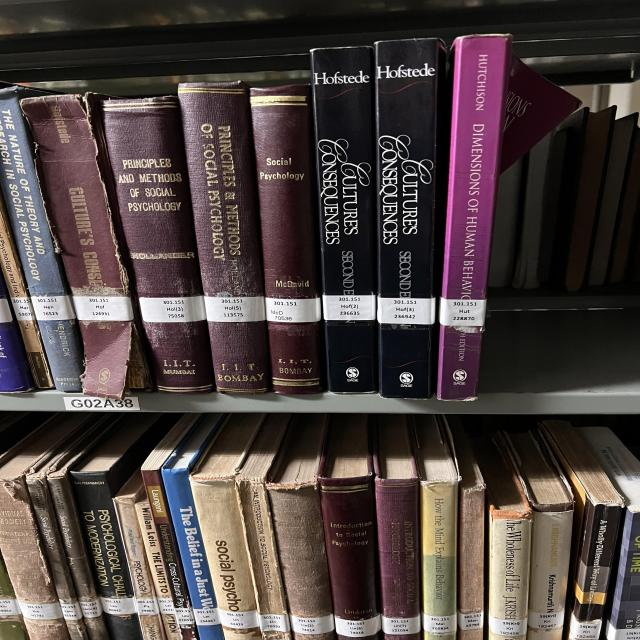Book: (437, 34, 580, 400), (22, 94, 152, 400), (102, 96, 213, 394), (178, 82, 270, 392), (0, 86, 83, 391), (375, 39, 445, 399), (70, 414, 172, 640), (250, 85, 323, 394), (312, 46, 377, 392), (0, 414, 98, 640), (540, 420, 623, 640), (190, 414, 265, 640), (267, 414, 335, 640), (318, 414, 382, 640), (162, 414, 225, 640), (577, 428, 640, 640), (142, 414, 200, 640), (47, 438, 110, 640), (237, 414, 292, 640), (473, 438, 532, 640), (27, 455, 88, 640), (0, 194, 55, 389), (375, 415, 420, 640), (413, 415, 458, 640), (113, 470, 167, 640), (448, 416, 485, 640), (135, 499, 180, 640), (527, 510, 573, 640), (0, 272, 35, 392), (0, 556, 27, 640)
Label: (138, 296, 207, 322), (377, 298, 435, 325), (205, 296, 265, 322), (73, 296, 133, 321), (323, 295, 377, 321), (265, 298, 322, 322), (440, 298, 487, 326), (32, 295, 75, 321), (335, 615, 380, 638), (568, 612, 602, 640), (290, 614, 333, 635), (18, 601, 63, 620), (488, 615, 527, 636), (218, 609, 258, 629), (382, 616, 420, 635), (100, 596, 137, 615), (423, 614, 457, 634), (528, 610, 563, 629), (607, 622, 640, 640), (258, 614, 290, 632), (12, 298, 35, 321), (193, 608, 220, 626), (458, 611, 483, 630), (173, 608, 195, 629), (80, 598, 102, 618), (60, 602, 82, 620), (0, 599, 22, 616), (135, 599, 158, 615), (0, 299, 13, 324), (157, 598, 175, 614)
